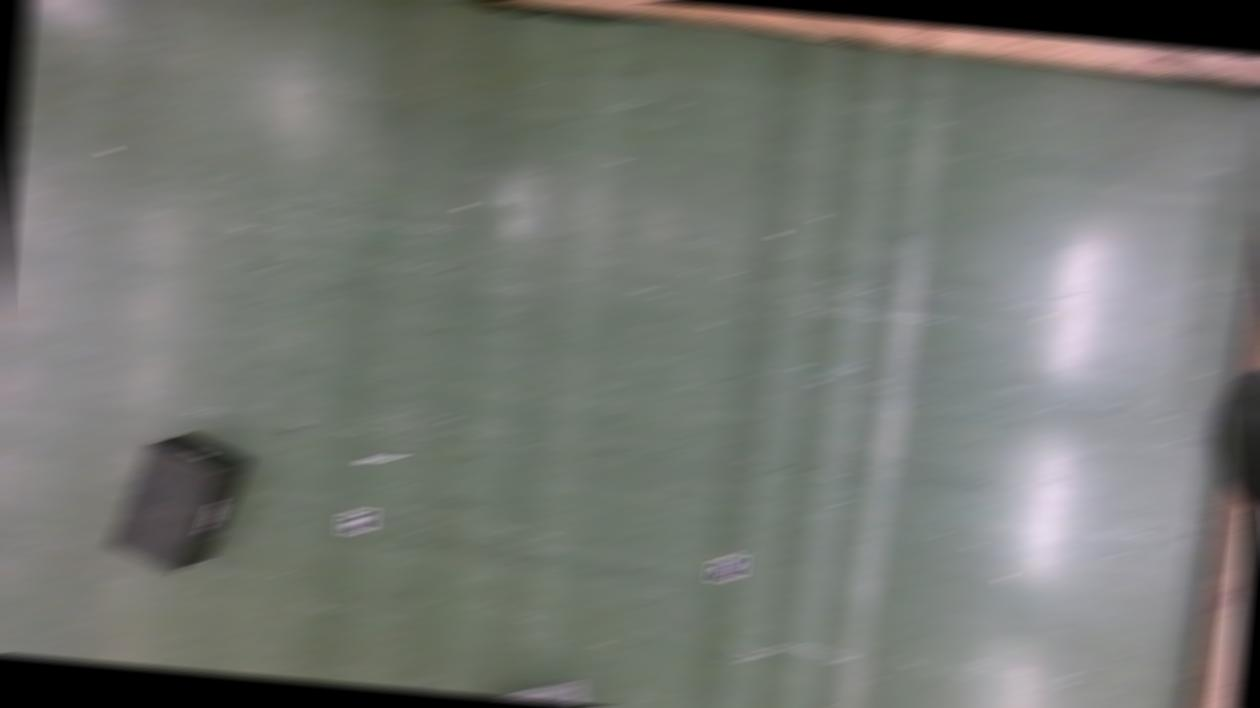probes: (358, 453, 403, 464), (812, 704, 833, 707)
rako: (104, 425, 252, 574)
